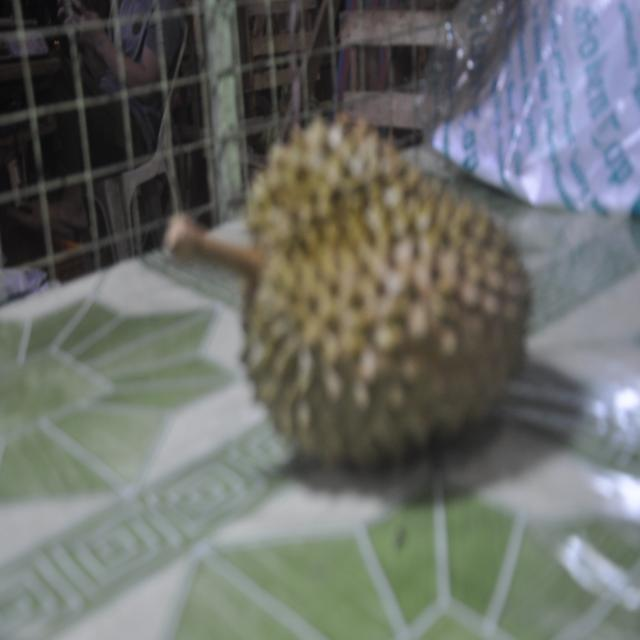mature: (157, 100, 541, 492)
